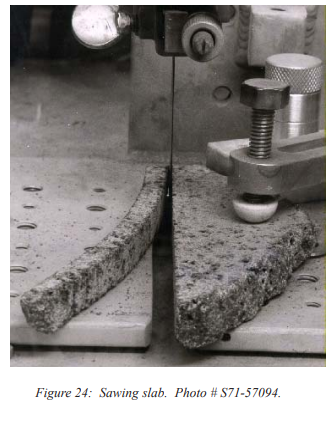Basalt: (174, 171, 267, 311)
